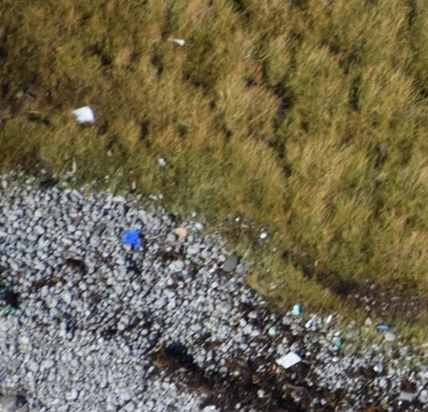scattered_barrel: (288, 295, 394, 346)
white_in_green: (58, 88, 119, 147), (152, 211, 210, 260), (105, 210, 158, 260), (260, 334, 313, 384)
